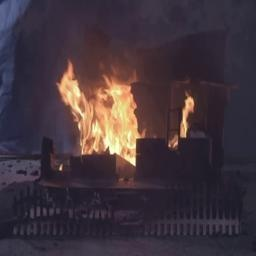fire: (51, 40, 203, 178)
